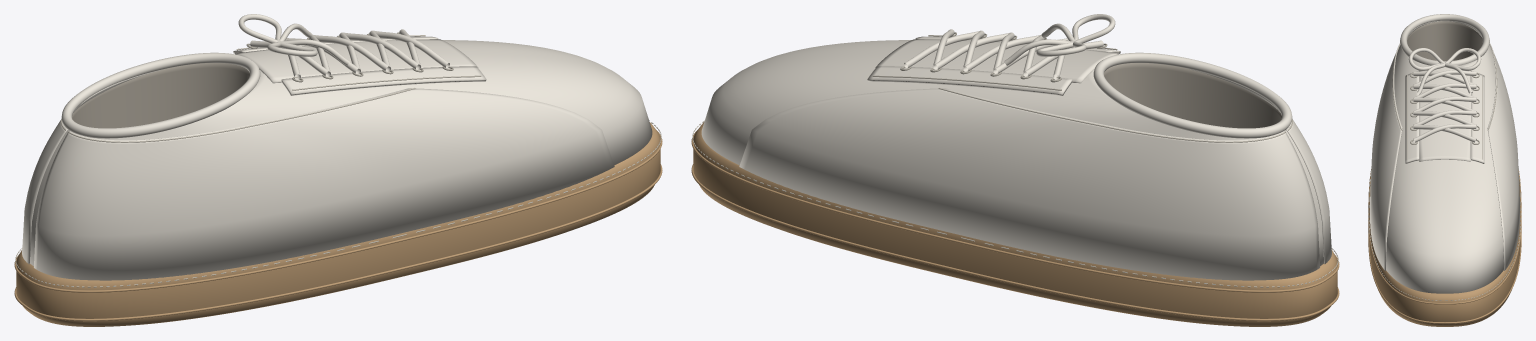
3 views of the same model, side by side, from view 1: azimuth 30°, elevation 25°; view 2: azimuth 150°, elevation 25°; view 3: azimuth 270°, elevation 25° (orthographic). The views are drawn at different scales.
Visible parts, largest first — view 1: panel, sole, upper, lining, laces, stitch; view 2: panel, sole, upper, lining, laces, stitch; view 3: upper, panel, sole, laces, lining, stitch, eyelet.
Boxes of the visible parts, x1,y1,x2,y2 form: panel: (22, 36, 614, 280); sole: (14, 122, 662, 326); upper: (30, 39, 652, 266); lining: (72, 63, 249, 128); laces: (238, 14, 449, 79); stitch: (15, 35, 661, 287); panel: (739, 36, 1331, 280); sole: (691, 122, 1339, 326); upper: (701, 39, 1323, 266); lining: (1104, 63, 1281, 128); laces: (904, 14, 1115, 79); stitch: (692, 35, 1338, 287); upper: (1386, 20, 1503, 293); panel: (1370, 14, 1519, 270); sole: (1368, 169, 1521, 326); laces: (1408, 48, 1481, 142); lining: (1407, 21, 1482, 61); stitch: (1368, 43, 1521, 300); eyelet: (1410, 73, 1479, 144).
Size of the model in its own units: 3.02 by 1.04 by 0.9453.
